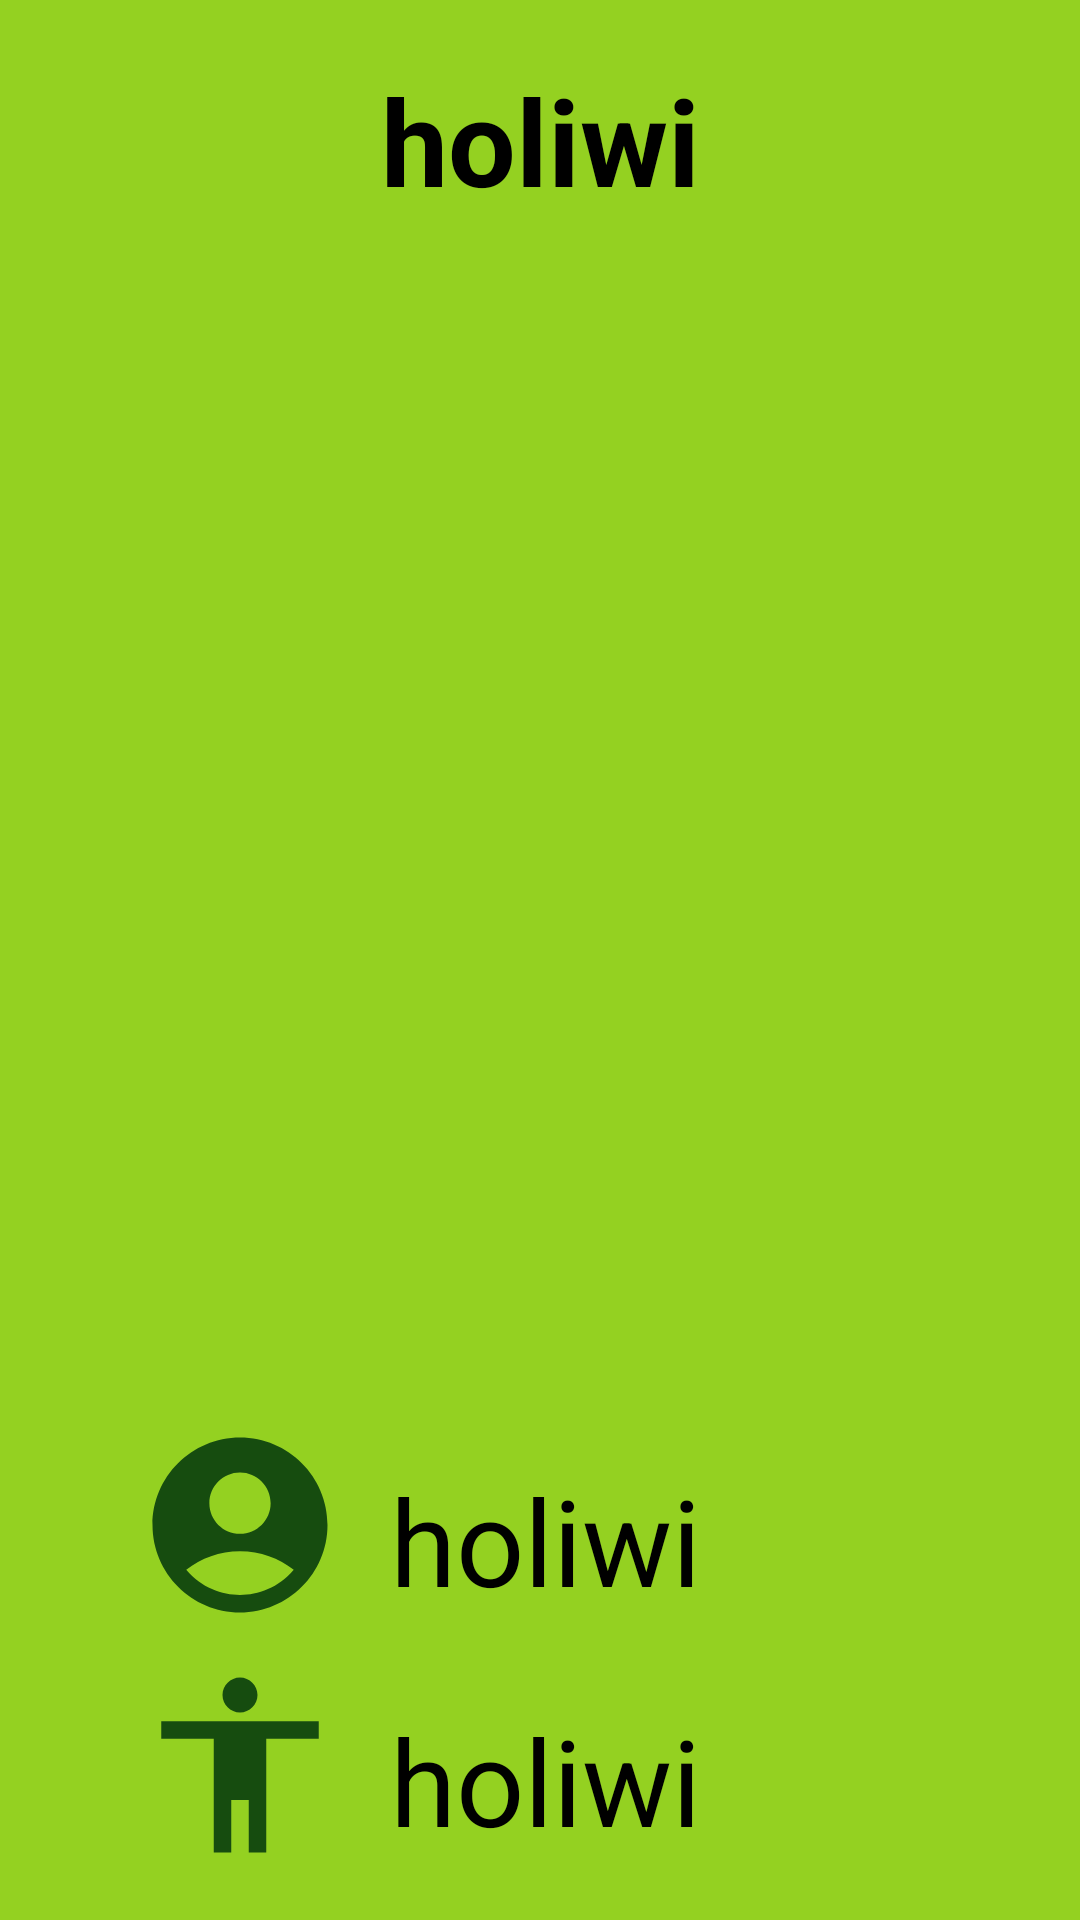

Icon click points for this 1080 x 1920 phone screenshot, format (x=x, y=y):
accessibility: (x=240, y=1765)
account circle: (x=240, y=1525)
